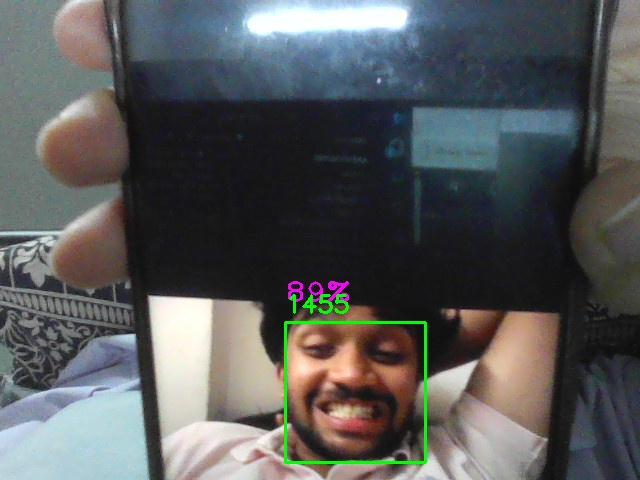fake: (285, 322, 426, 463)
